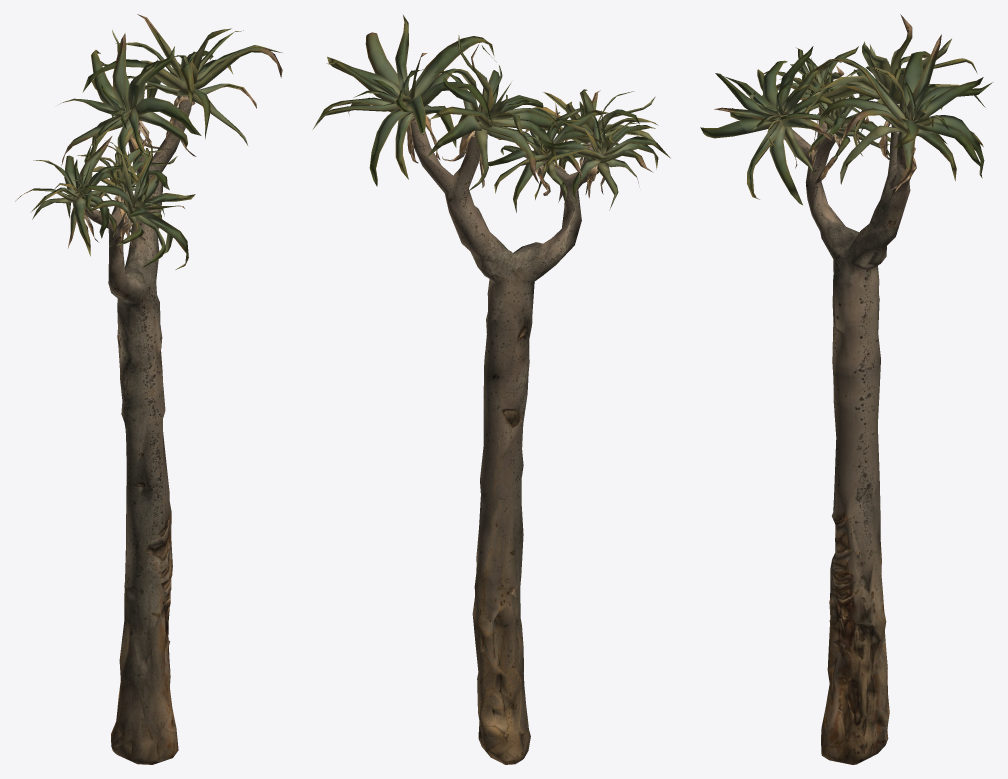
The model's file is tree-quiver.glb.
3 renders of one model, left to right at view 1: azimuth 30°, elevation 25°; view 2: azimuth 150°, elevation 25°; view 3: azimuth 270°, elevation 25°, orthographic. The views are drawn at different scales.
Parts seen in each view (by area): view 1: quiver_tree_01; view 2: quiver_tree_01; view 3: quiver_tree_01.
Boxes of the visible parts, left/top/right/bottom form: quiver_tree_01: left=15, top=14, right=282, bottom=764; quiver_tree_01: left=312, top=15, right=670, bottom=764; quiver_tree_01: left=700, top=14, right=992, bottom=764.
Size of the model in its own units: 1.18 by 2.71 by 0.9675.
Materials: 2 (2 with a texture image).
